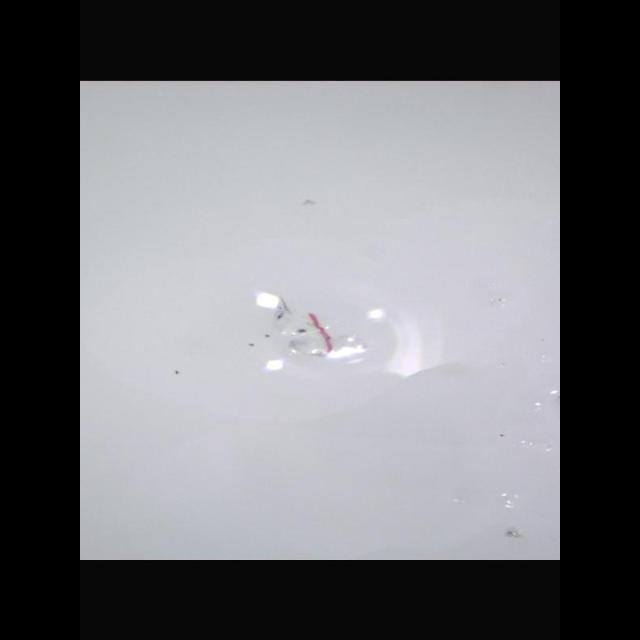Fibre: (250, 291, 370, 371)
